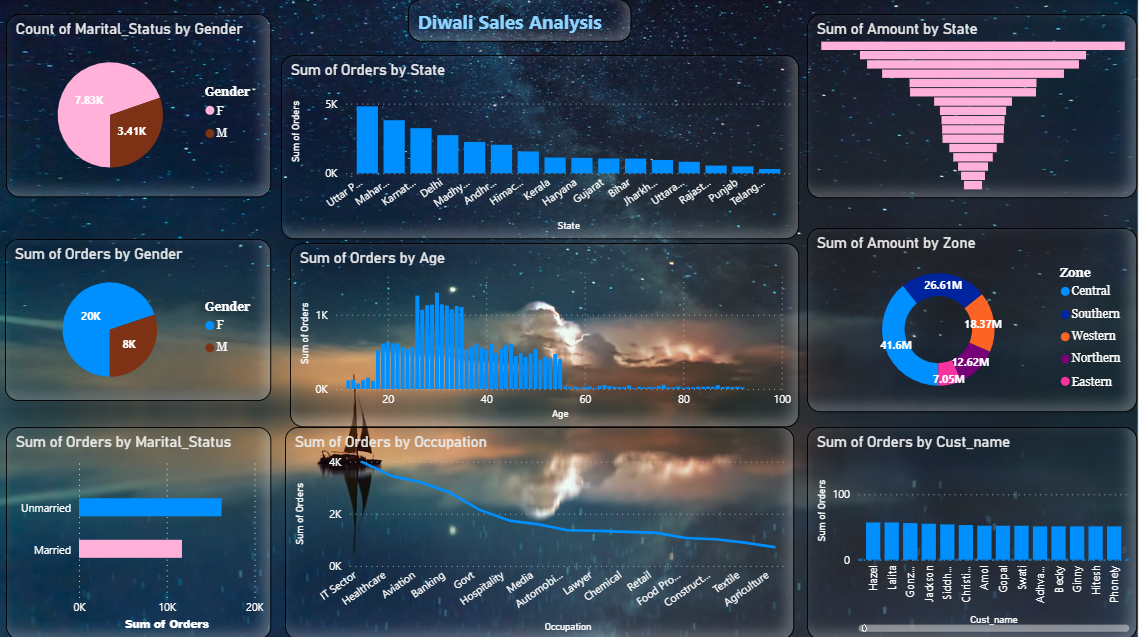

The page's visual inventory and layout, read from the dashboard file:
{"tool":"powerbi","page":{"name":"Page 1","canvas":[1280,720],"ordinal":0},"visuals":[{"type":"pieChart","fields":{"Category":["Diwali Sales Data (2).Gender"],"Y":["Diwali Sales Data (2).Marital_Status"]},"box":[9,16.7,298.2,205.6],"z":0},{"type":"pieChart","fields":{"Category":["Diwali Sales Data (2).Gender"],"Y":["Diwali Sales Data (2).Orders"]},"box":[7.7,269.9,299.4,182.5],"z":1},{"type":"barChart","fields":{"Category":["Diwali Sales Data (2).Marital_Status"],"Y":["Diwali Sales Data (2).Orders"]},"box":[9,480.6,298.2,239],"z":2},{"type":"clusteredColumnChart","fields":{"Y":["Diwali Sales Data (2).Orders"],"Category":["Diwali Sales Data (2).State"]},"box":[317.4,63,582.2,206.9],"z":3},{"type":"clusteredColumnChart","fields":{"Y":["Diwali Sales Data (2).Orders"],"Category":["Diwali Sales Data (2).Age"]},"box":[327.7,273.7,571.9,206.9],"z":4},{"type":"lineChart","fields":{"Category":["Diwali Sales Data (2).Occupation"],"Y":["Diwali Sales Data (2).Orders"]},"box":[322.6,480.6,571.9,239],"z":5},{"type":"funnel","fields":{"Category":["Diwali Sales Data (2).State"],"Y":["Diwali Sales Data (2).Amount"]},"box":[909,17,371,207],"z":6},{"type":"donutChart","fields":{"Y":["Diwali Sales Data (2).Amount"],"Category":["Diwali Sales Data (2).Zone"]},"box":[909,257,371,207],"z":7},{"type":"columnChart","fields":{"Category":["Diwali Sales Data (2).Cust_name"],"Y":["Diwali Sales Data (2).Orders"]},"box":[909,481,371,239],"z":8},{"type":"textbox","box":[460.1,0,250.6,47.6],"z":9}]}

Visuals, with their boxes in screenshot pixels (x1, y1, x2, y2), scaled from the page's 1280x720 canvas onto the 1139x637 screenshot:
pieChart - Diwali Sales Data (2).Gender x Diwali Sales Data (2).Marital_Status: (left=8, top=15, right=273, bottom=197)
pieChart - Diwali Sales Data (2).Gender x Diwali Sales Data (2).Orders: (left=7, top=239, right=273, bottom=400)
barChart - Diwali Sales Data (2).Marital_Status x Diwali Sales Data (2).Orders: (left=8, top=425, right=273, bottom=636)
clusteredColumnChart - Diwali Sales Data (2).Orders x Diwali Sales Data (2).State: (left=282, top=56, right=801, bottom=239)
clusteredColumnChart - Diwali Sales Data (2).Orders x Diwali Sales Data (2).Age: (left=292, top=242, right=801, bottom=425)
lineChart - Diwali Sales Data (2).Occupation x Diwali Sales Data (2).Orders: (left=287, top=425, right=796, bottom=636)
funnel - Diwali Sales Data (2).State x Diwali Sales Data (2).Amount: (left=809, top=15, right=1138, bottom=198)
donutChart - Diwali Sales Data (2).Amount x Diwali Sales Data (2).Zone: (left=809, top=227, right=1138, bottom=411)
columnChart - Diwali Sales Data (2).Cust_name x Diwali Sales Data (2).Orders: (left=809, top=426, right=1138, bottom=636)
textbox: (left=409, top=0, right=632, bottom=42)
